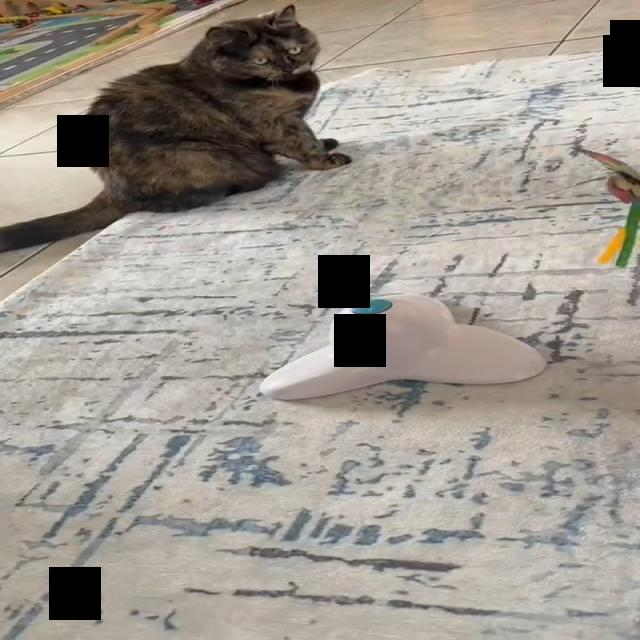authorized: (0, 3, 351, 254)
